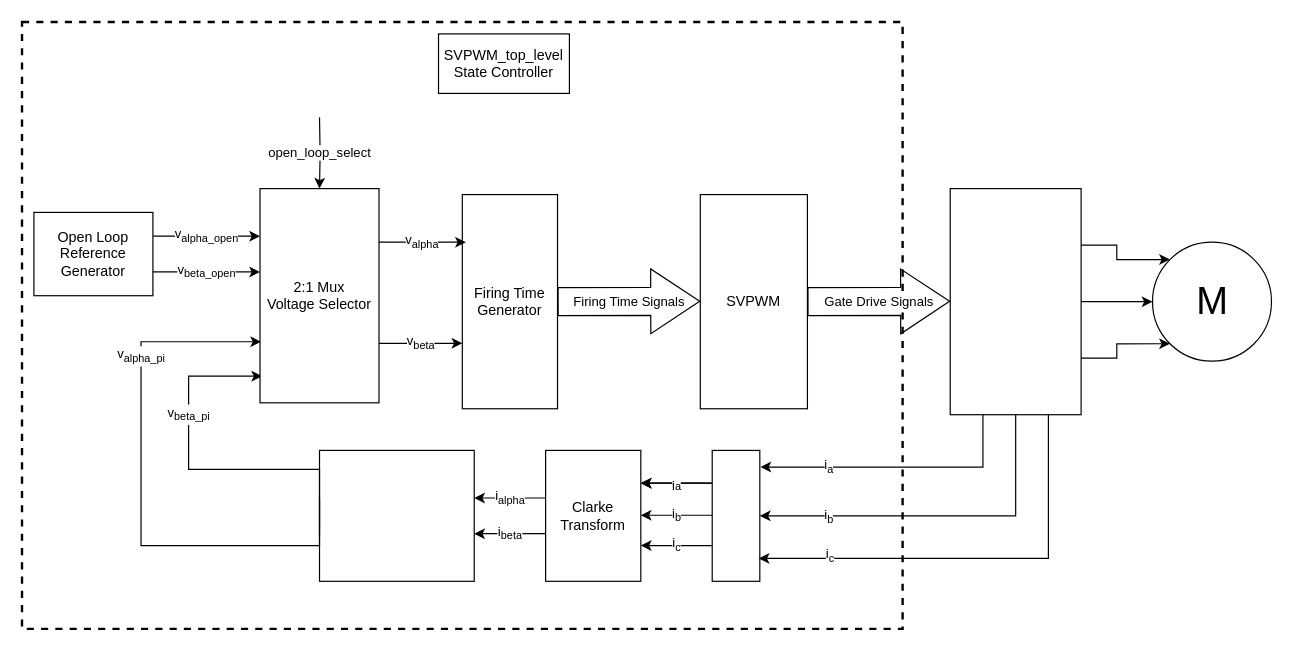
Image size: 1292x650. Some labels were removed from this diagram. The shapes that lost their labels are listed below. From the top down, each one's centre as x and y in pixels, then its label:
[1015,301]: Gate Driver Board
[396,515]: PI Controller
[735,515]: ADC
